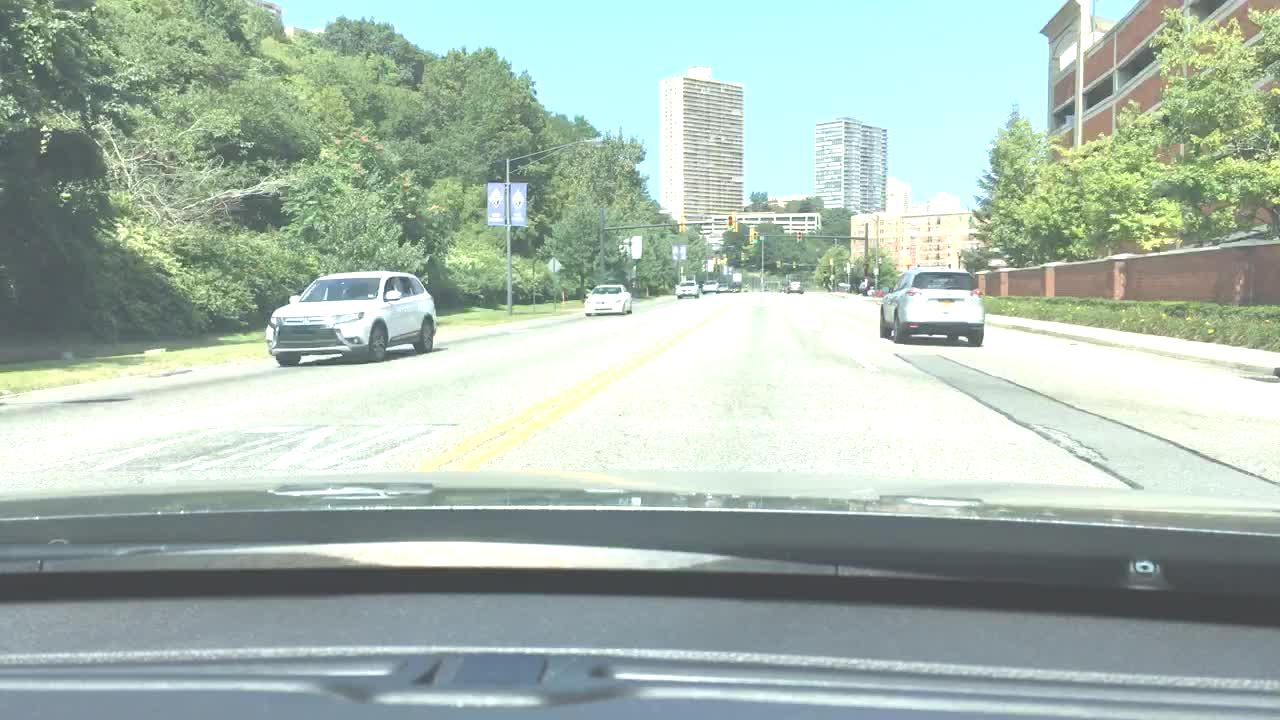Mitsubishi: (297, 314, 314, 329)
